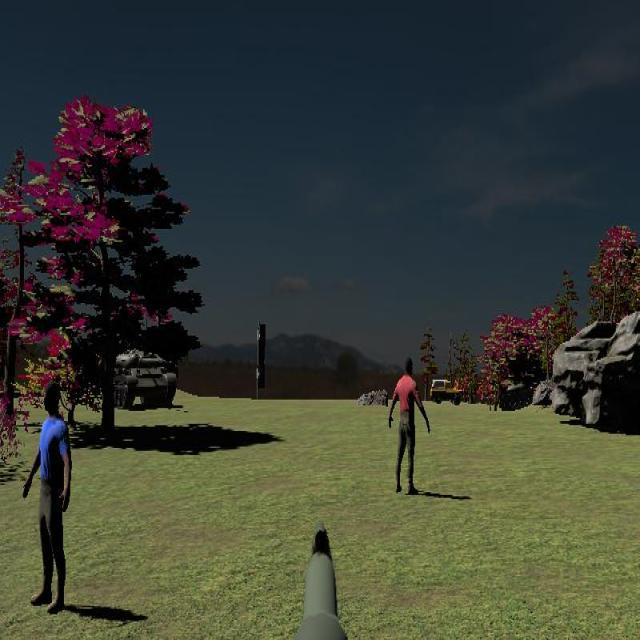Human: (22, 378, 73, 611), (389, 354, 430, 495)
Tank: (101, 344, 177, 411)
car: (430, 378, 463, 405)
